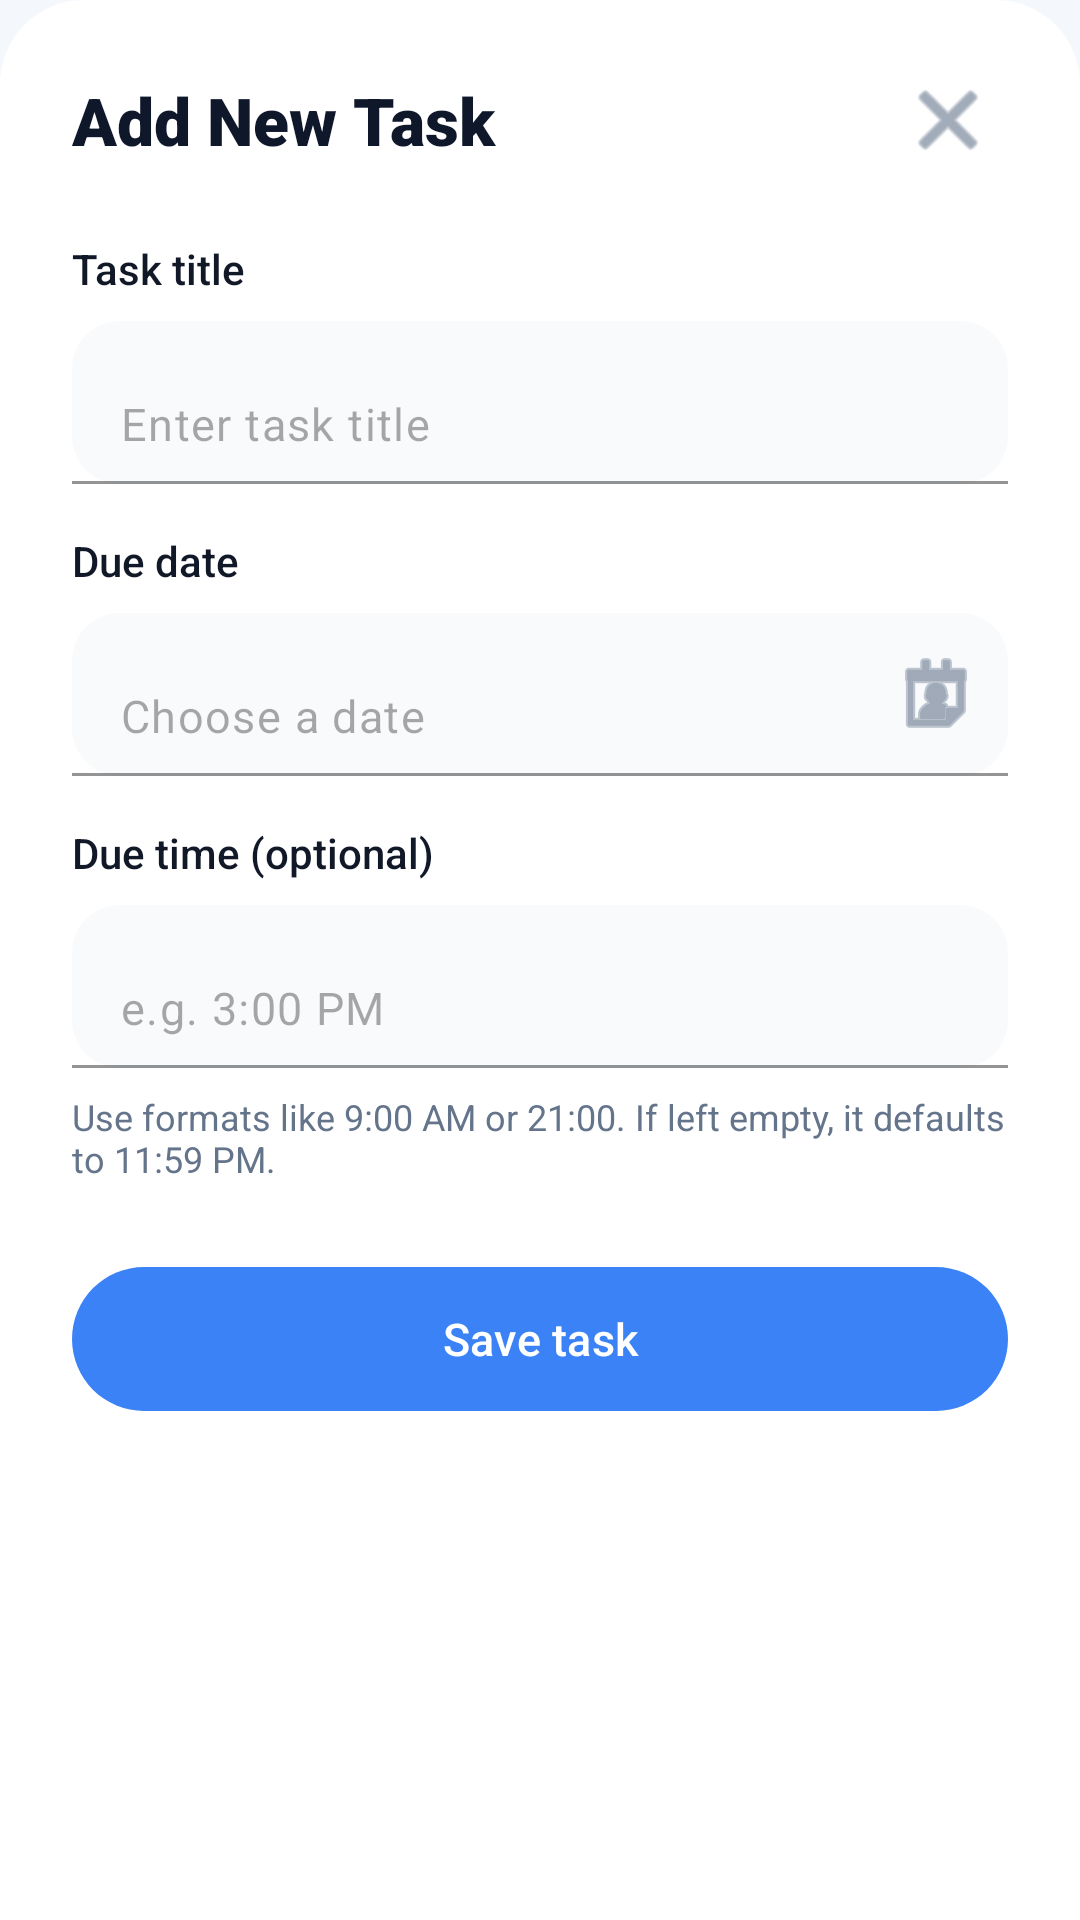

Icon click points for this 1080 x 1920 phone screenshot, format (x,y):
Close: (948,120)
